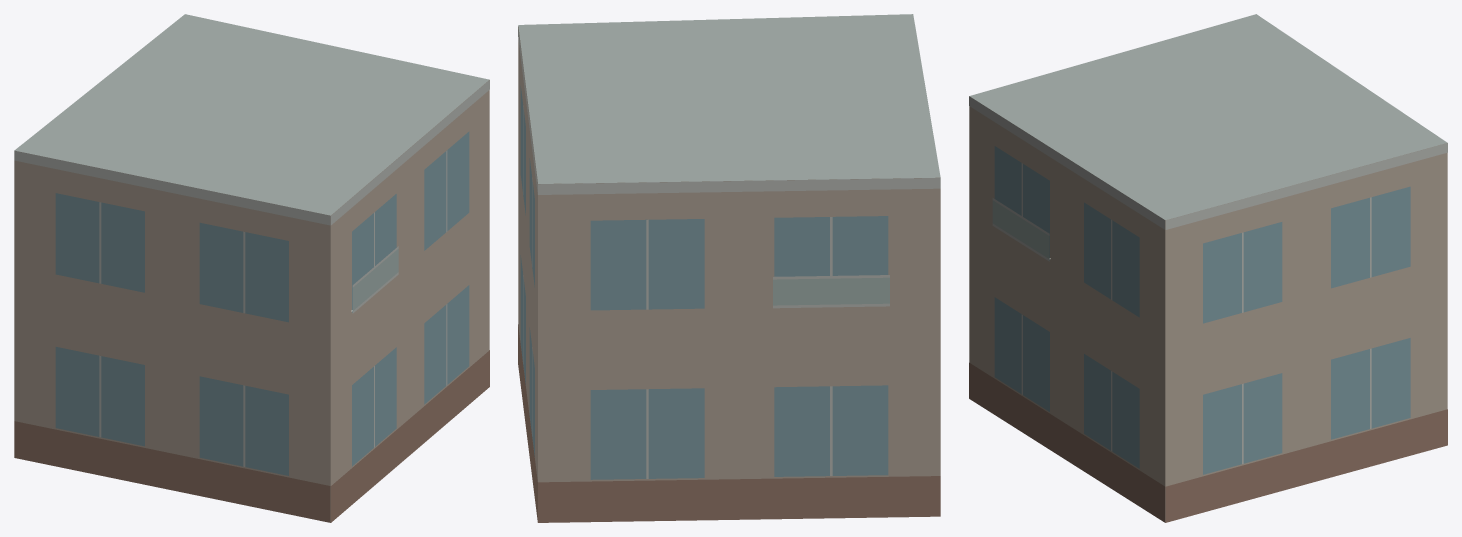
File: survey-upis-32597232.glb
3 views of the same model, side by side, from view 1: azimuth 30°, elevation 25°; view 2: azimuth 150°, elevation 25°; view 3: azimuth 270°, elevation 25° (orthographic). The views are drawn at different scales.
Parts seen in each view (by area): view 1: survey-upis-32597232.tmp; view 2: survey-upis-32597232.tmp; view 3: survey-upis-32597232.tmp.
Boxes of the visible parts, x1=… form: survey-upis-32597232.tmp: x1=14, y1=14, x2=489, y2=522; survey-upis-32597232.tmp: x1=518, y1=14, x2=940, y2=522; survey-upis-32597232.tmp: x1=969, y1=14, x2=1447, y2=522.
Bounding box in the file's own units: 10.97 × 7.5 × 10.76.
